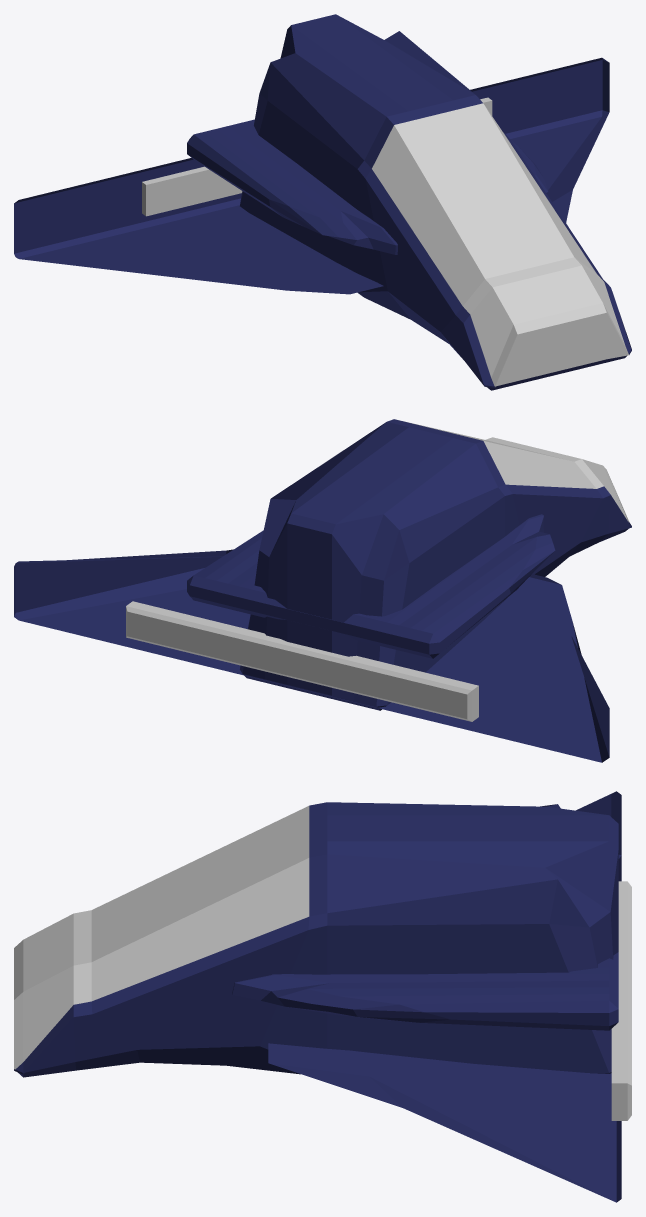
File: vaisseau.obj
3 renders of one model, top to bottom at view 1: azimuth 30°, elevation 25°; view 2: azimuth 150°, elevation 25°; view 3: azimuth 270°, elevation 25°, orthographic. The views are drawn at different scales.
Visible parts, largest first — view 1: Cube.002, Cube.006, Cube.003, Cube.004; view 2: Cube.002, Cube.003, Cube.004, Cube.006; view 3: Cube.002, Cube.006, Cube.003, Cube.004.
Boxes of the visible parts, bbox=[...] form: Cube.002: bbox=[187, 14, 631, 390]; Cube.006: bbox=[372, 103, 628, 386]; Cube.003: bbox=[14, 57, 609, 294]; Cube.004: bbox=[142, 97, 492, 216]; Cube.002: bbox=[187, 419, 631, 710]; Cube.003: bbox=[14, 549, 609, 762]; Cube.004: bbox=[126, 601, 478, 721]; Cube.006: bbox=[401, 420, 628, 521]; Cube.002: bbox=[14, 802, 618, 1077]; Cube.006: bbox=[14, 806, 309, 1069]; Cube.003: bbox=[268, 791, 621, 1202]; Cube.004: bbox=[611, 881, 631, 1120].
Bounding box in the file's own units: 13.11 × 3.7 × 9.87.
